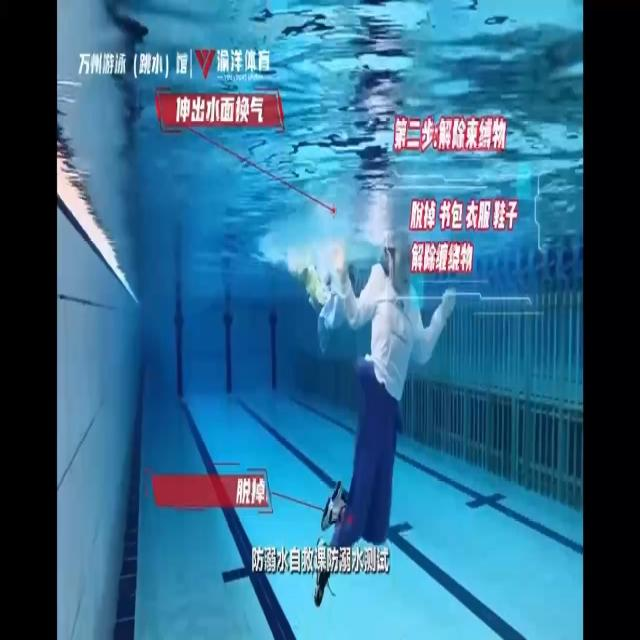Drowning: (314, 237, 458, 608)
